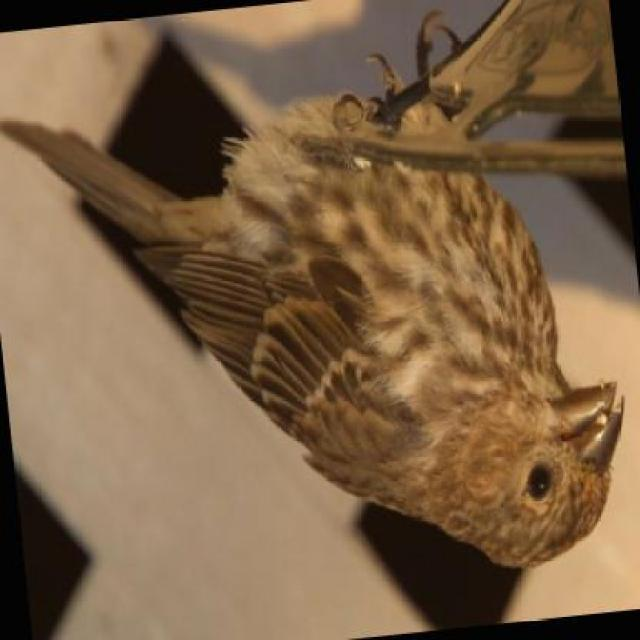Bird: (145, 17, 631, 571)
